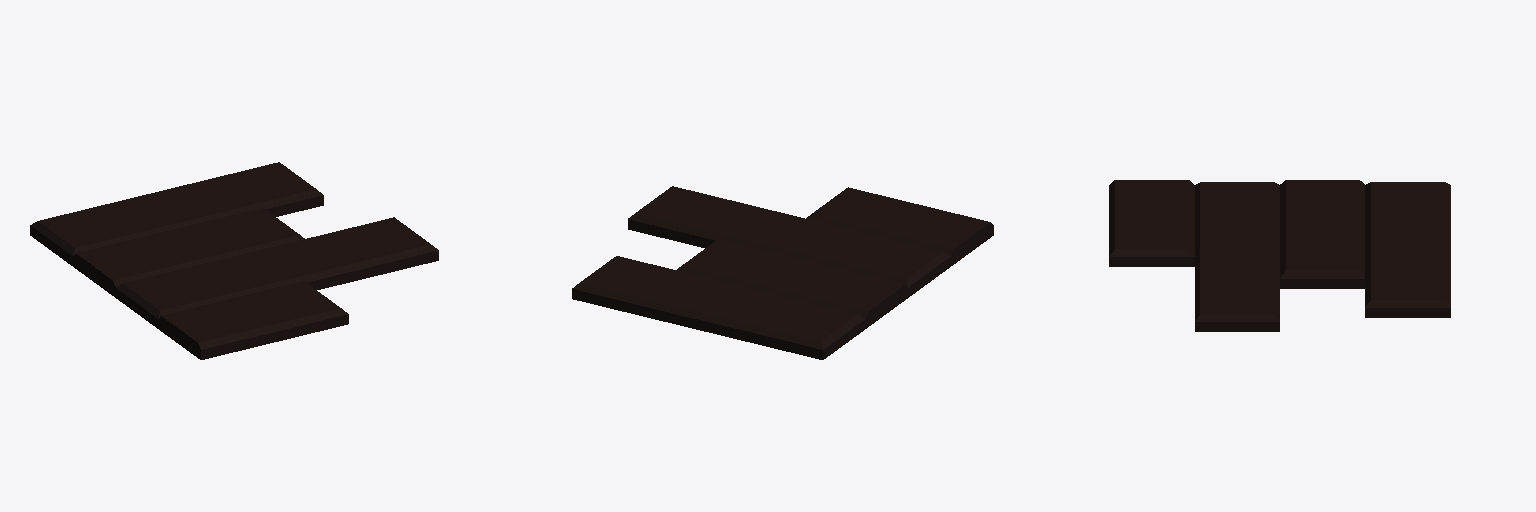
The model's file is floorDecoration_woodRight.obj.
3 views of the same model, side by side, from view 1: azimuth 30°, elevation 25°; view 2: azimuth 150°, elevation 25°; view 3: azimuth 270°, elevation 25° (orthographic).
Visible parts, largest first — view 1: floorDecoration_woodRight_Cube.2486; view 2: floorDecoration_woodRight_Cube.2486; view 3: floorDecoration_woodRight_Cube.2486.
Part boxes in pixels (left/top/right/bottom): floorDecoration_woodRight_Cube.2486: left=30, top=162, right=438, bottom=359; floorDecoration_woodRight_Cube.2486: left=572, top=186, right=993, bottom=359; floorDecoration_woodRight_Cube.2486: left=1109, top=180, right=1450, bottom=331.
Bounding box in the file's own units: 1.9 × 0.1 × 2.